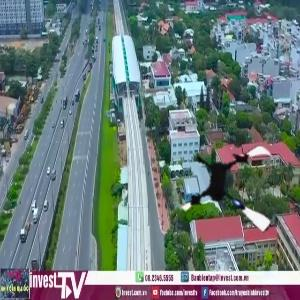drone: (177, 134, 290, 247)
